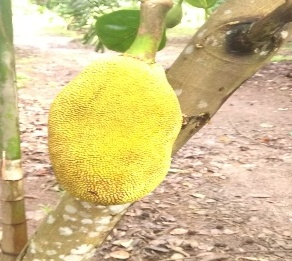Mit: (49, 57, 183, 203)
